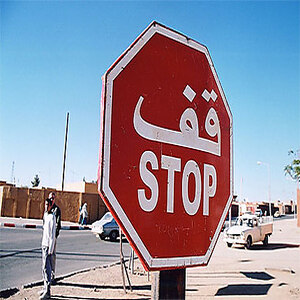stop: (107, 21, 233, 268)
